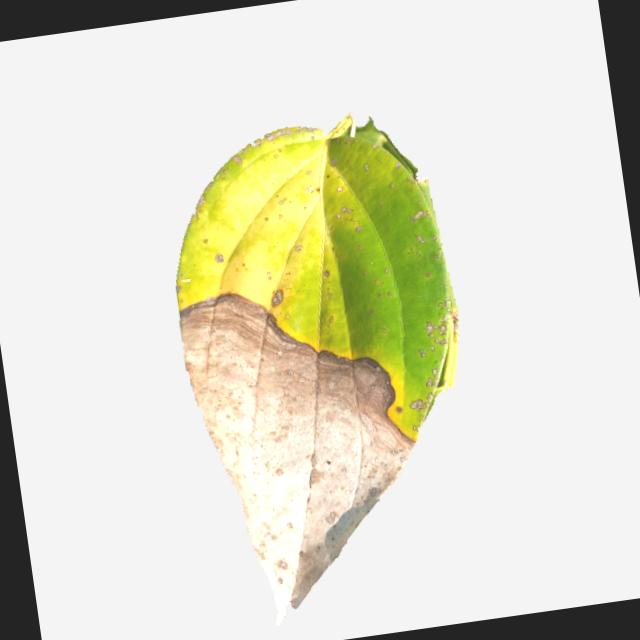leaf-blight: (150, 105, 508, 630)
